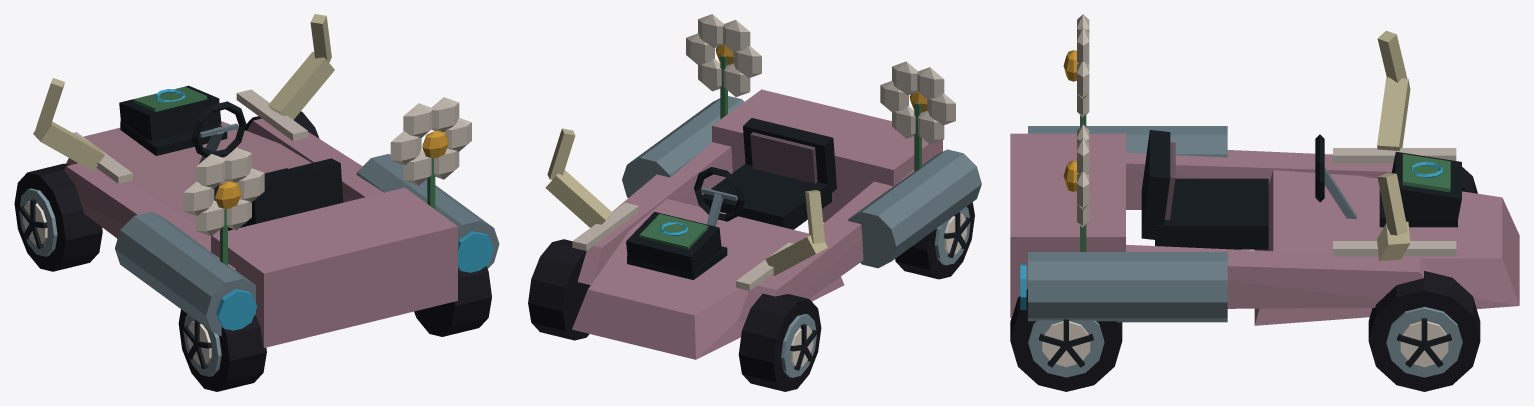
The model's file is kart.glb.
The picture shows the model from 3 angles, left to right: view 1: azimuth 30°, elevation 25°; view 2: azimuth 150°, elevation 25°; view 3: azimuth 270°, elevation 25°; orthographic projection. The views are drawn at different scales.
Visible parts, largest first — view 1: identity-lab-pod-lab-pod-segmented-shell, identity-lab-pod-motif-flowers, wheel-front-left, identity-lab-pod-driver-cockpit, identity-lab-pod-motif-horns, wheel-rear-left, identity-lab-pod-motif-scanner, wheel-rear-right; view 2: identity-lab-pod-lab-pod-segmented-shell, identity-lab-pod-driver-cockpit, identity-lab-pod-motif-flowers, wheel-front-left, wheel-front-right, identity-lab-pod-motif-horns, identity-lab-pod-motif-scanner, wheel-rear-left; view 3: identity-lab-pod-lab-pod-segmented-shell, identity-lab-pod-driver-cockpit, wheel-front-right, wheel-rear-right, identity-lab-pod-motif-horns, identity-lab-pod-motif-scanner, identity-lab-pod-motif-flowers.
Part boxes in pixels (x1,y1,x2,y2): identity-lab-pod-lab-pod-segmented-shell: (64,89,499,347); identity-lab-pod-motif-flowers: (183,97,471,265); wheel-front-left: (14,163,102,271); identity-lab-pod-driver-cockpit: (191,101,343,230); identity-lab-pod-motif-horns: (33,14,334,171); wheel-rear-left: (178,309,266,391); identity-lab-pod-motif-scanner: (119,85,221,141); wheel-rear-right: (414,266,491,336); identity-lab-pod-lab-pod-segmented-shell: (572,89,981,359); identity-lab-pod-driver-cockpit: (694,118,836,229); identity-lab-pod-motif-flowers: (686,14,955,171); wheel-front-left: (738,293,821,391); wheel-front-right: (528,239,590,340); identity-lab-pod-motif-horns: (545,128,827,275); identity-lab-pod-motif-scanner: (626,211,721,273); wheel-rear-left: (895,202,974,279); identity-lab-pod-lab-pod-segmented-shell: (1010,126,1519,325); identity-lab-pod-driver-cockpit: (1141,130,1356,249); wheel-front-right: (1368,271,1480,391); wheel-rear-right: (1010,289,1122,391); identity-lab-pod-motif-horns: (1377,30,1410,260); identity-lab-pod-motif-scanner: (1392,151,1461,218); identity-lab-pod-motif-flowers: (1063,14,1089,251).
Size of the model in its own units: 2 by 1.46 by 2.73.
